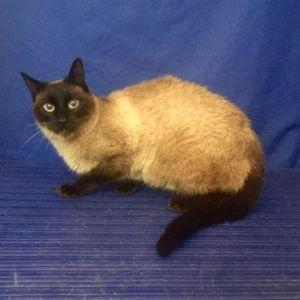siamese: (16, 54, 99, 146)
